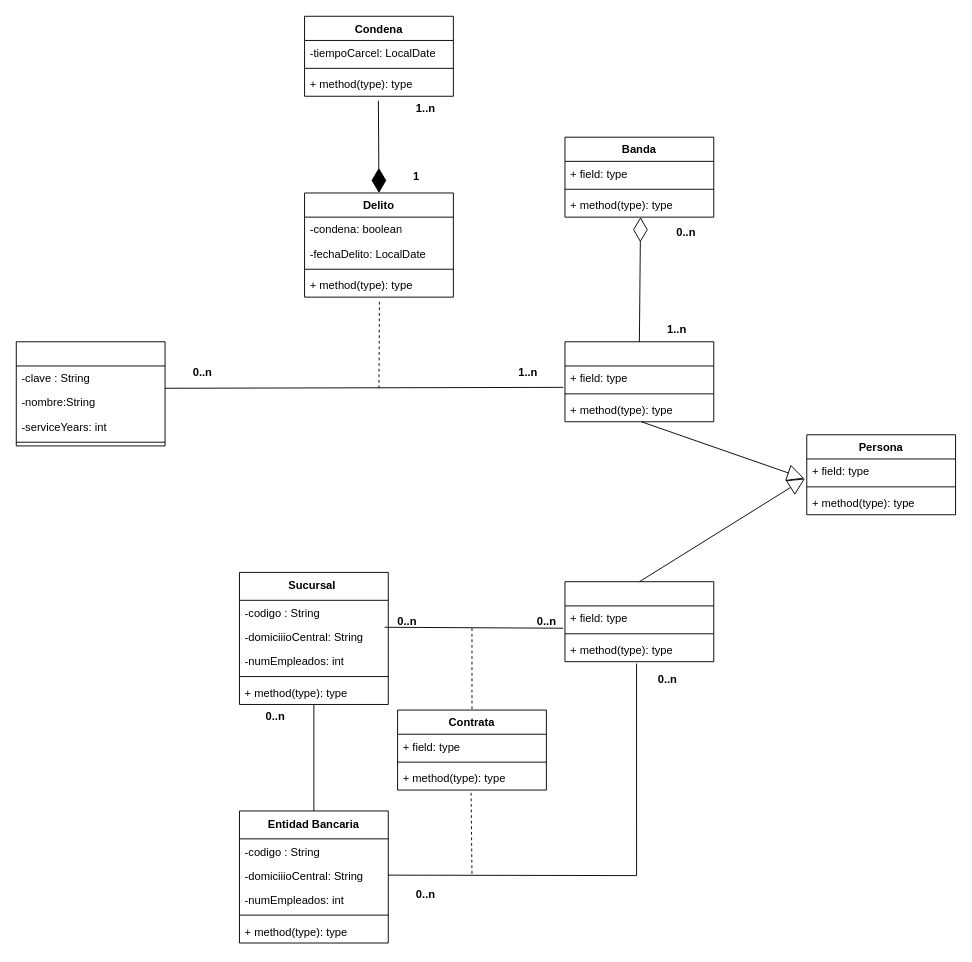
The diagram is 972 pixels wide and 962 high, and some of its shapes have lost their labels. Here are the shapes that lost their labels. From the top down, the box of each, then its label:
(15, 341, 165, 446): Juez
(564, 341, 714, 422): Atracador
(564, 581, 714, 662): Vigilante
